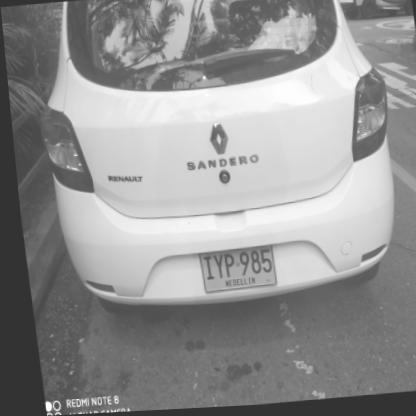placa: (190, 246, 275, 296)
